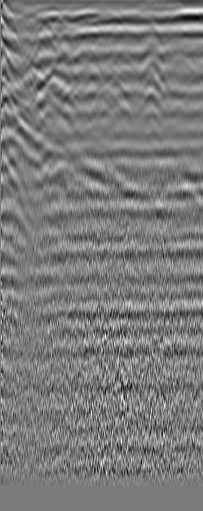오수: (13, 15, 33, 35)
우수: (166, 40, 186, 60)
